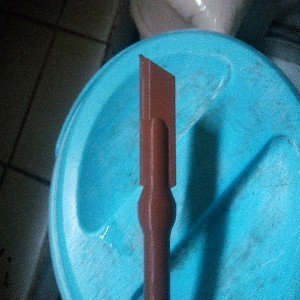cutter: (136, 53, 178, 300)
